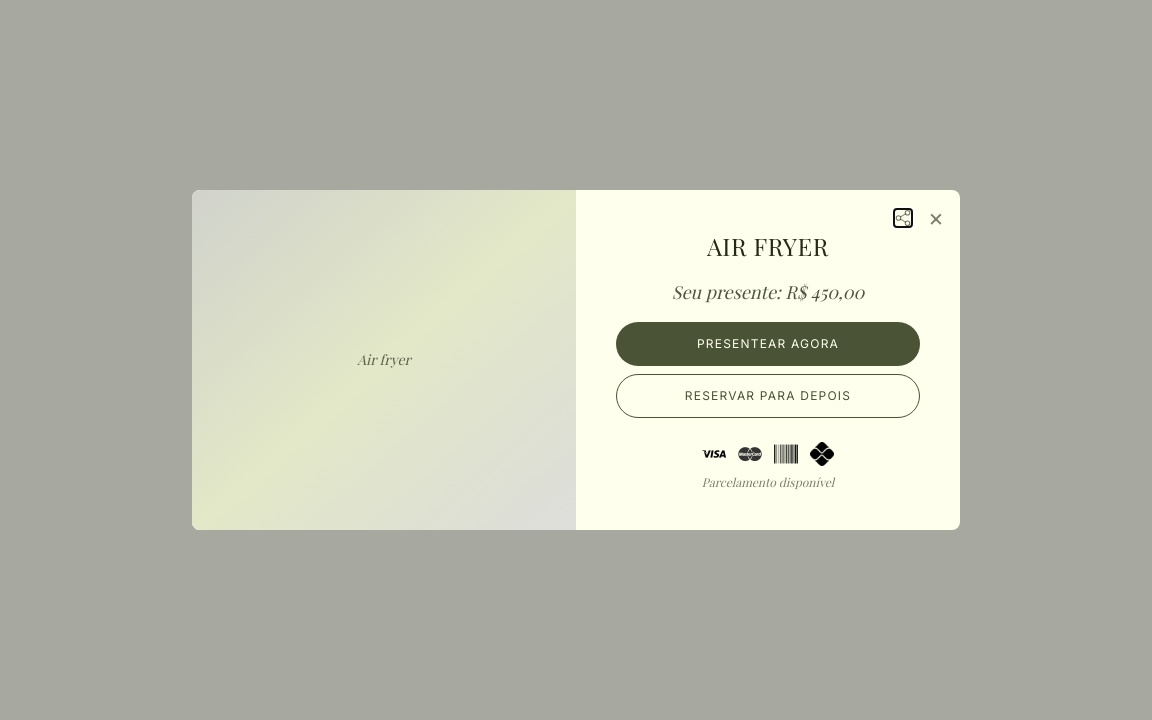
Test: GiftDetailsModal › shows 'Link copiado!' feedback when the share falls back to clipboard copy
The image size is (1152, 720).
Click the button named "Compartilhar". click: coordinates (903, 218)
box: [894,209,912,227]
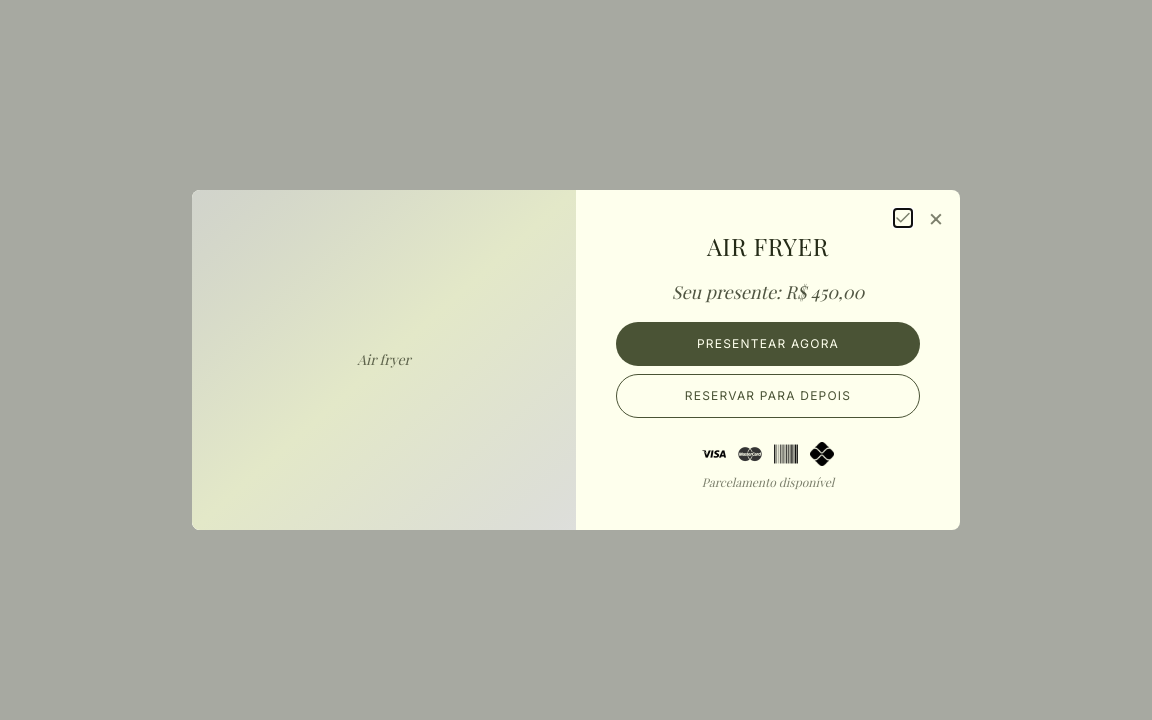
Expected: the button named "Link copiado!" is shown, [894,209,912,227]
